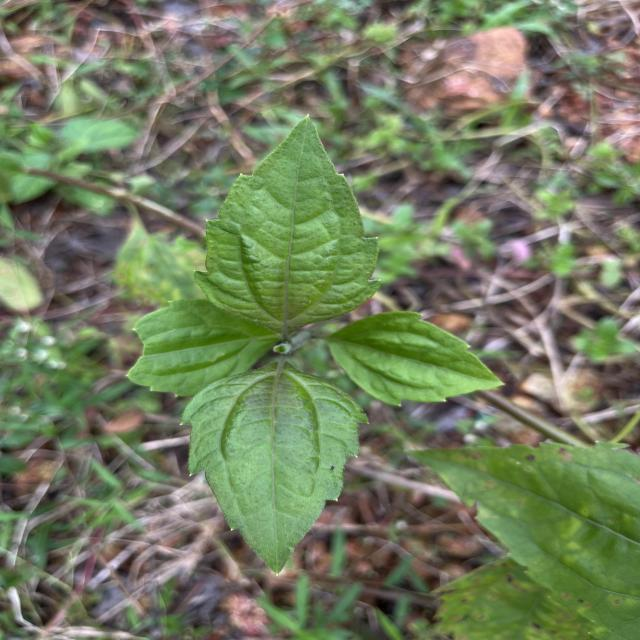Chromolaena odorata: (188, 110, 388, 336), (174, 360, 375, 580)
